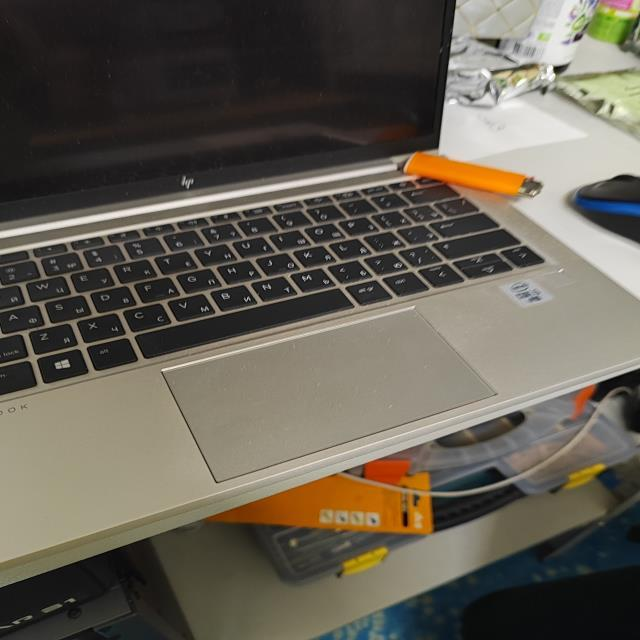lighter: (400, 152, 542, 196)
